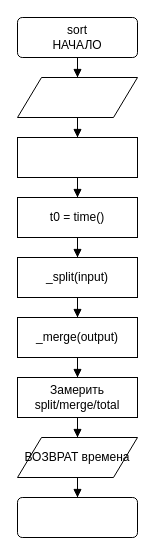
Some shapes in this 155 by 555 pixel diagram are drawn without their labels. Here are the shapes that lost their labels. From the top down, the centre of each, then its label:
At point (77, 97): "input, output, col, reverse".
At point (77, 157): "Определить is_numeric по col".
At point (77, 517): "КОНЕЦ sort".
